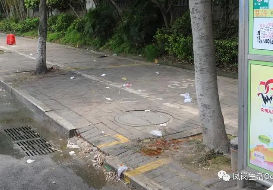garbage: (58, 139, 99, 164), (145, 128, 173, 144), (111, 161, 132, 181), (178, 91, 198, 105), (120, 80, 140, 93), (5, 32, 18, 51), (150, 58, 165, 69), (20, 158, 34, 169), (147, 69, 162, 77), (68, 74, 78, 81), (100, 71, 110, 77), (110, 53, 122, 58)
